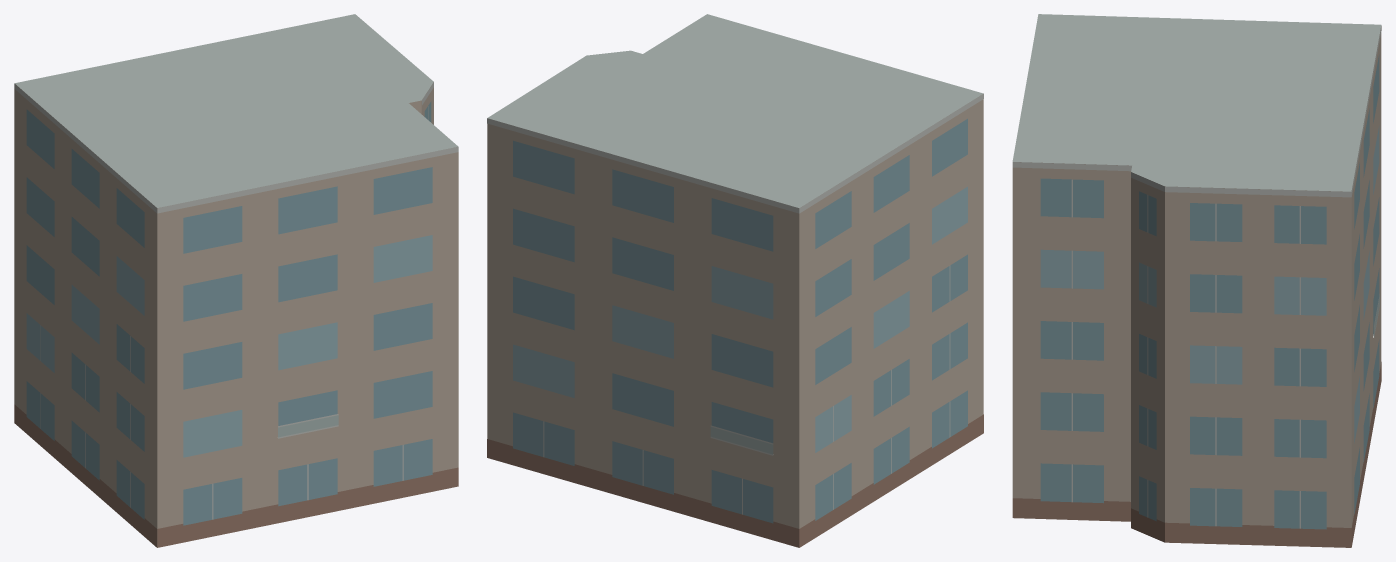
The model's file is survey-upis-32768149.glb.
The picture shows the model from 3 angles, left to right: view 1: azimuth 30°, elevation 25°; view 2: azimuth 150°, elevation 25°; view 3: azimuth 270°, elevation 25°; orthographic projection. The views are drawn at different scales.
Visible parts, largest first — view 1: survey-upis-32768149.tmp; view 2: survey-upis-32768149.tmp; view 3: survey-upis-32768149.tmp.
Part boxes in pixels (<box>): survey-upis-32768149.tmp: <box>14,14,458,547</box>; survey-upis-32768149.tmp: <box>487,14,983,547</box>; survey-upis-32768149.tmp: <box>1012,14,1381,547</box>.
Bounding box in the file's own units: 16.33 × 15.25 × 14.33.
